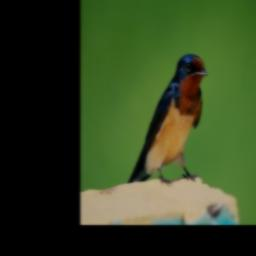Swallow: (126, 52, 208, 188)
